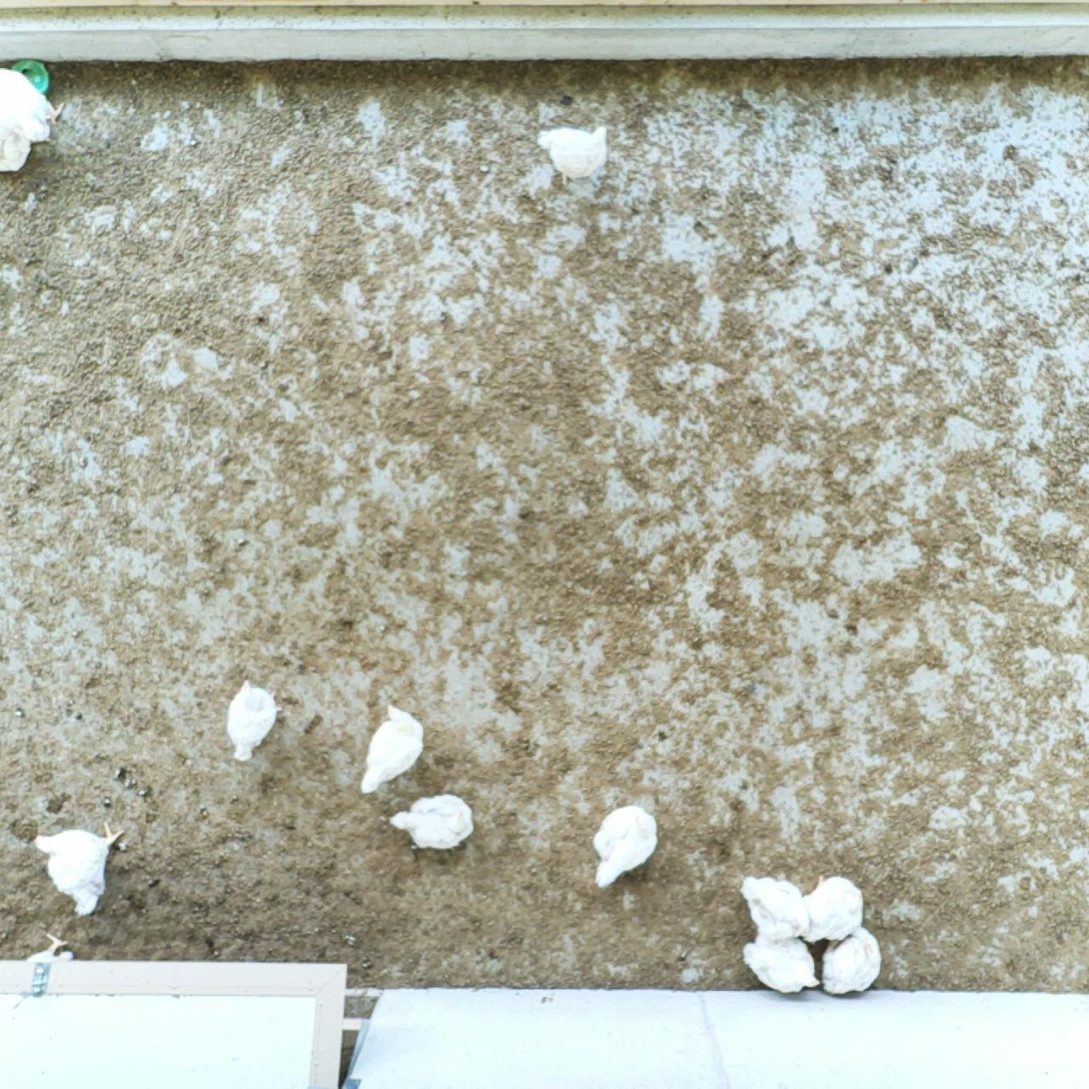chicken: (30, 816, 130, 919), (590, 798, 664, 894), (356, 700, 428, 798), (386, 791, 479, 858), (740, 928, 824, 1001), (735, 869, 815, 945), (0, 64, 69, 145), (225, 674, 287, 762), (817, 921, 888, 997), (534, 121, 614, 188), (795, 875, 869, 947), (0, 121, 36, 179), (20, 929, 79, 964)
